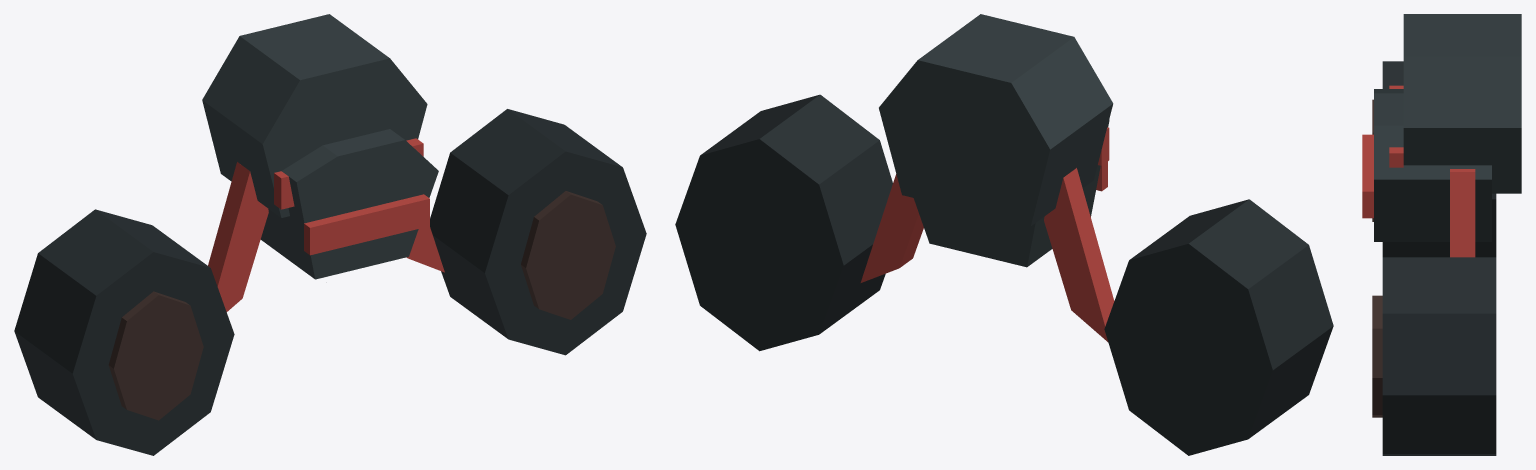
Rendered from shusen_female_hair.glb.
The picture shows the model from 3 angles, left to right: view 1: azimuth 30°, elevation 25°; view 2: azimuth 150°, elevation 25°; view 3: azimuth 270°, elevation 25°; orthographic projection. The views are drawn at different scales.
Parts seen in each view (by area): view 1: Shusen_Export_Hair; view 2: Shusen_Export_Hair; view 3: Shusen_Export_Hair.
Part boxes in pixels (left/top/right/bottom): Shusen_Export_Hair: left=14, top=14, right=646, bottom=455; Shusen_Export_Hair: left=675, top=14, right=1333, bottom=455; Shusen_Export_Hair: left=1362, top=14, right=1521, bottom=455.
Size of the model in its own units: 0.766 by 0.42 by 0.189.
4 materials, 4 textured.
